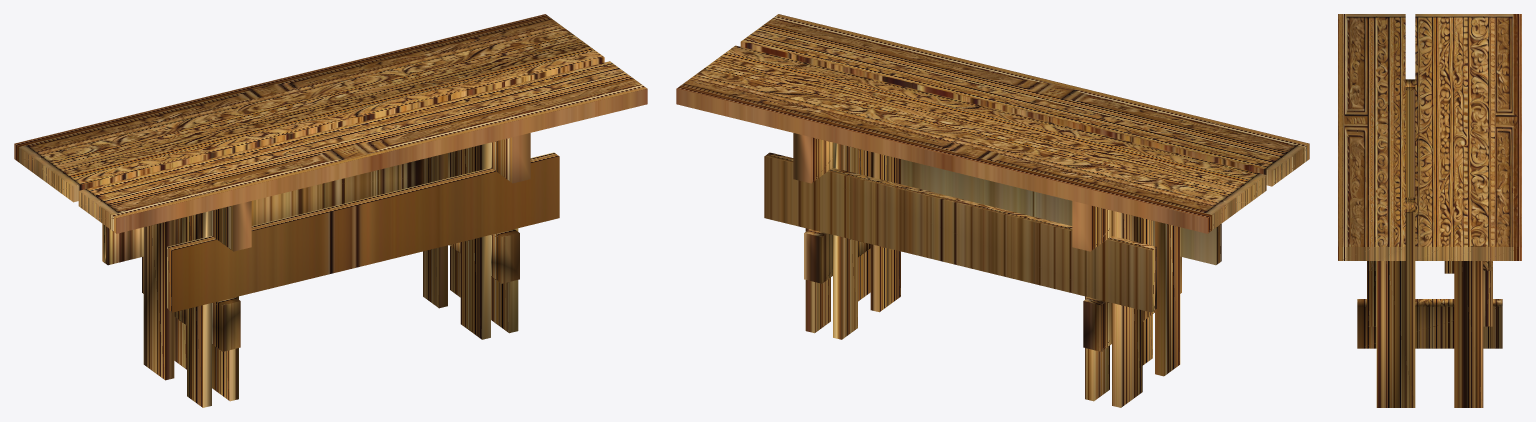
Rendered from bench_11_21__09_14_03_textured.obj.
The picture shows the model from 3 angles, left to right: view 1: azimuth 30°, elevation 25°; view 2: azimuth 150°, elevation 25°; view 3: azimuth 270°, elevation 25°; orthographic projection. The views are drawn at different scales.
Bounding box in the file's own units: 1.2 × 0.5 × 0.4.
1 material, 1 textured.
